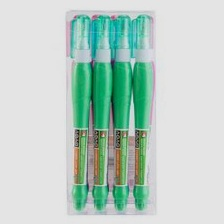correction_fluid: (108, 14, 135, 212), (89, 12, 114, 212), (69, 12, 93, 213), (130, 11, 154, 212)
